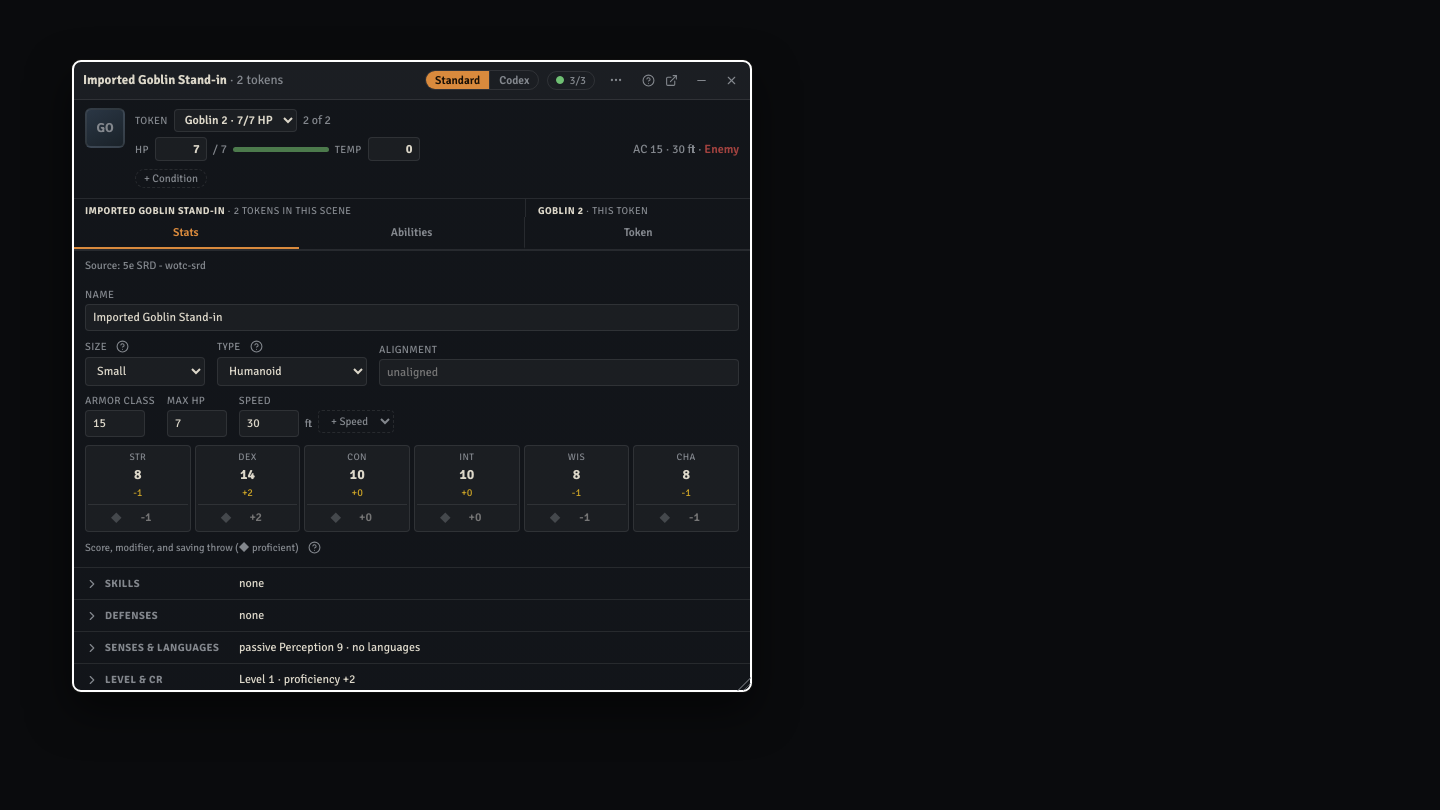
Test: the ⋯ menu › duplicates the token, and the sheet moves to the copy
Click the button named "More actions": (614, 80) [603,69,625,91]
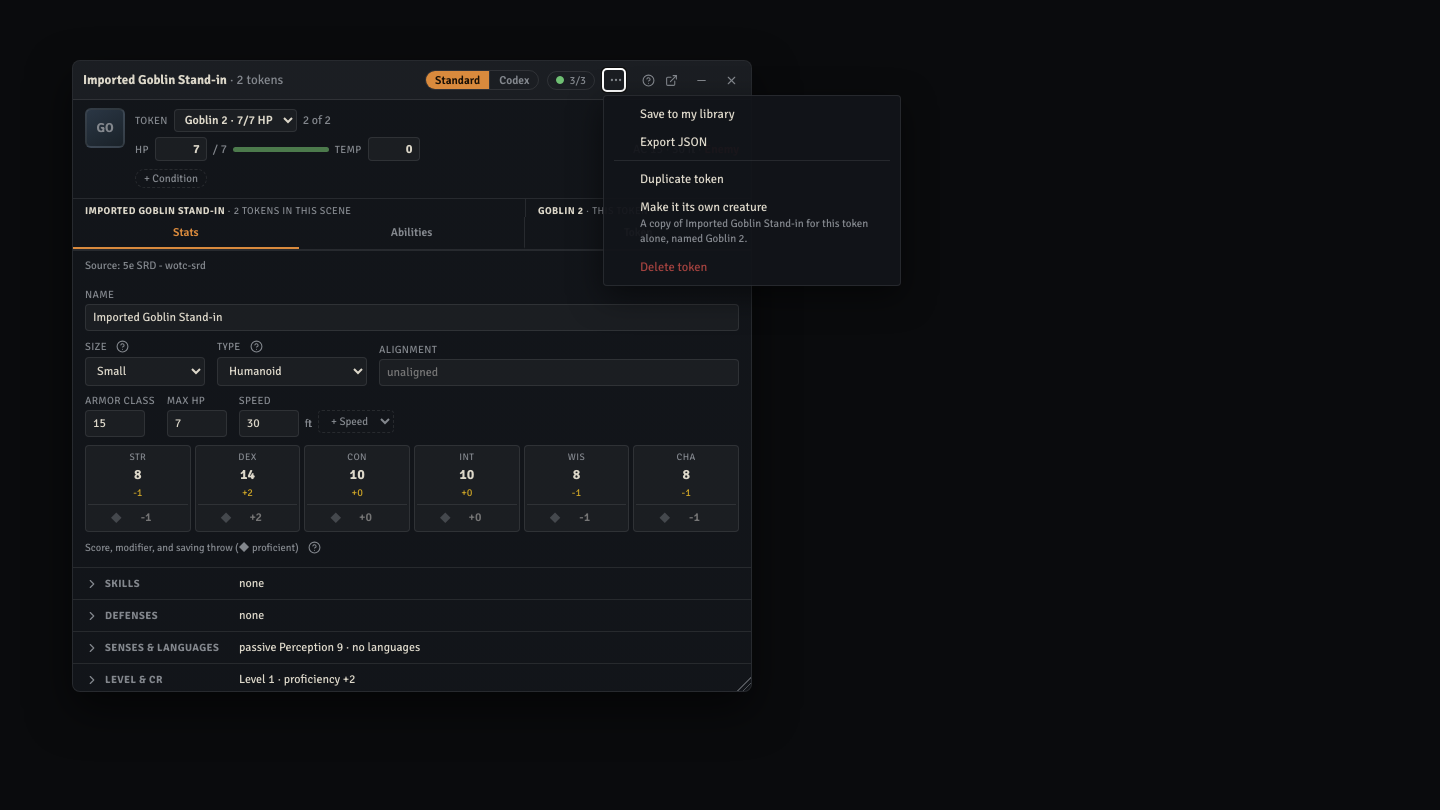
Click the menu item "Duplicate token": (682, 179) [608,165,896,193]
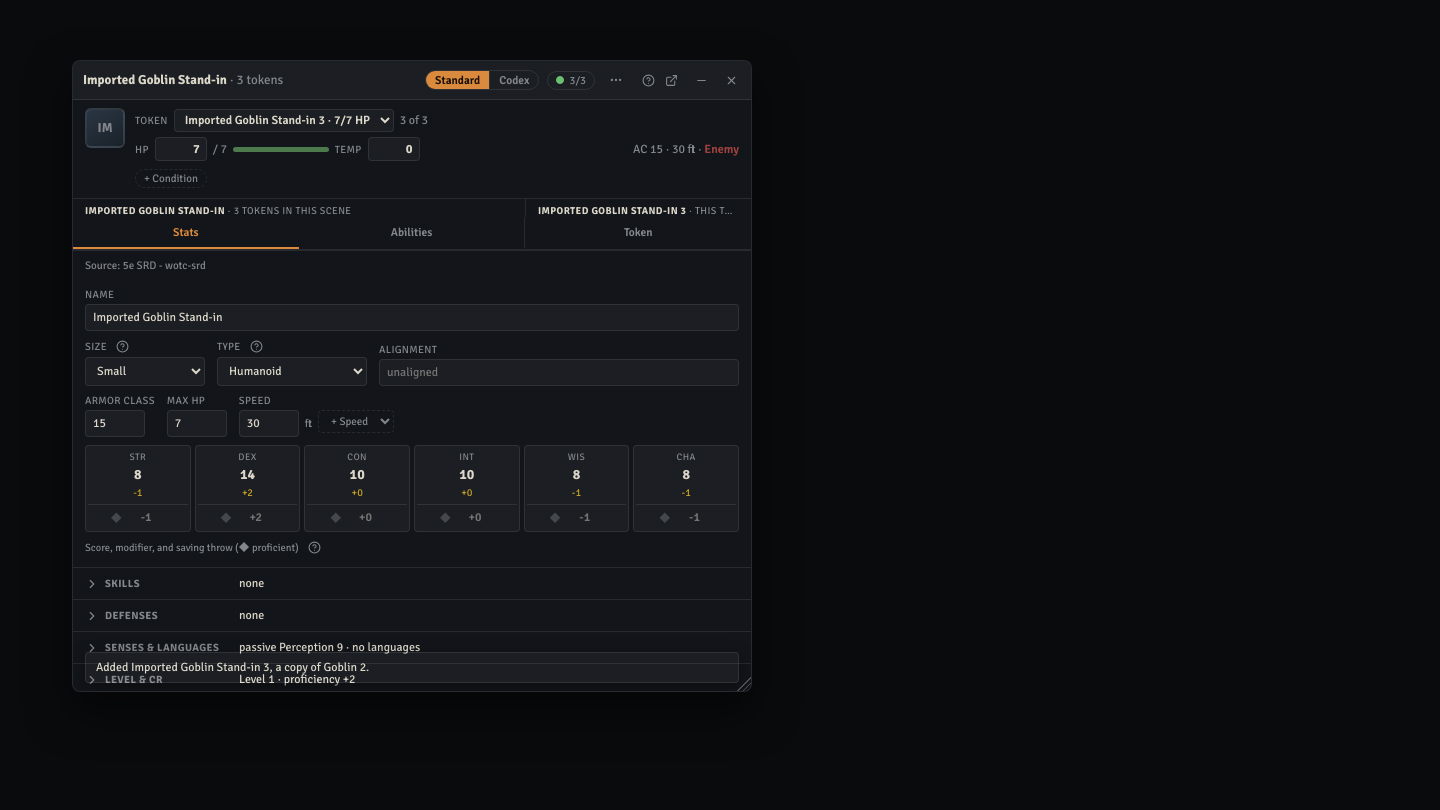
Now the message reads "Added Imported Goblin Stand-in 3, a copy of Goblin 2.", box [96,660,369,675]
